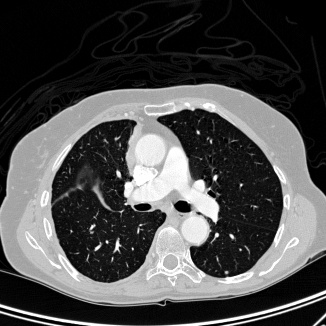PN: (224, 270, 228, 274)
